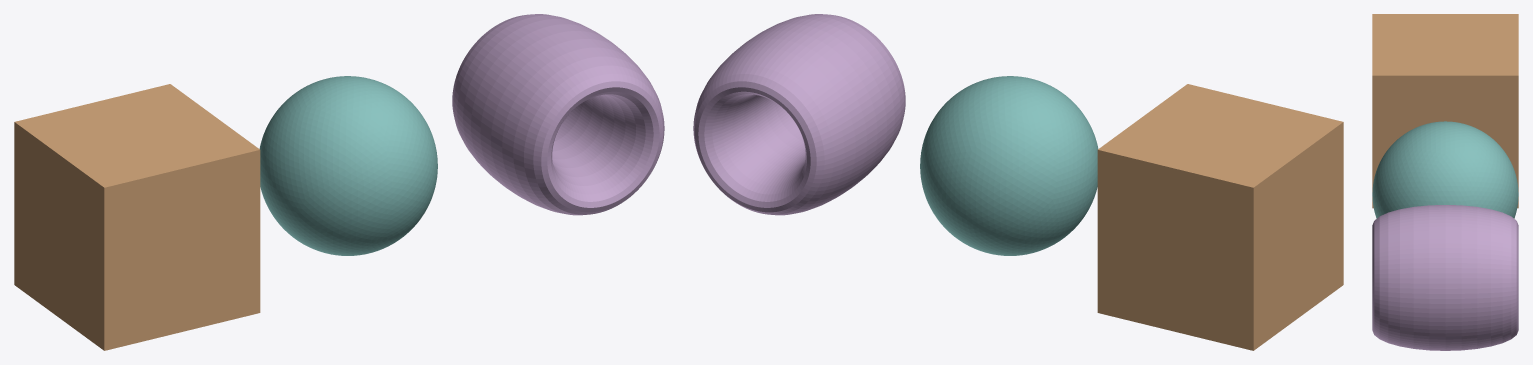
Rendered from shape-study.glb.
3 renders of one model, left to right at view 1: azimuth 30°, elevation 25°; view 2: azimuth 150°, elevation 25°; view 3: azimuth 270°, elevation 25°, orthographic. The views are drawn at different scales.
Parts seen in each view (by area): view 1: Box, Ring, Sphere; view 2: Box, Ring, Sphere; view 3: Ring, Box, Sphere.
Boxes of the visible parts, left/top/right/bottom form: Box: left=14, top=84, right=260, bottom=350; Ring: left=452, top=14, right=664, bottom=215; Sphere: left=259, top=76, right=437, bottom=255; Box: left=1097, top=84, right=1343, bottom=350; Ring: left=693, top=14, right=905, bottom=215; Sphere: left=920, top=76, right=1098, bottom=255; Ring: left=1372, top=205, right=1518, bottom=350; Box: left=1372, top=14, right=1518, bottom=208; Sphere: left=1372, top=121, right=1518, bottom=218.
Size of the model in its own units: 7.4 by 2 by 2.
